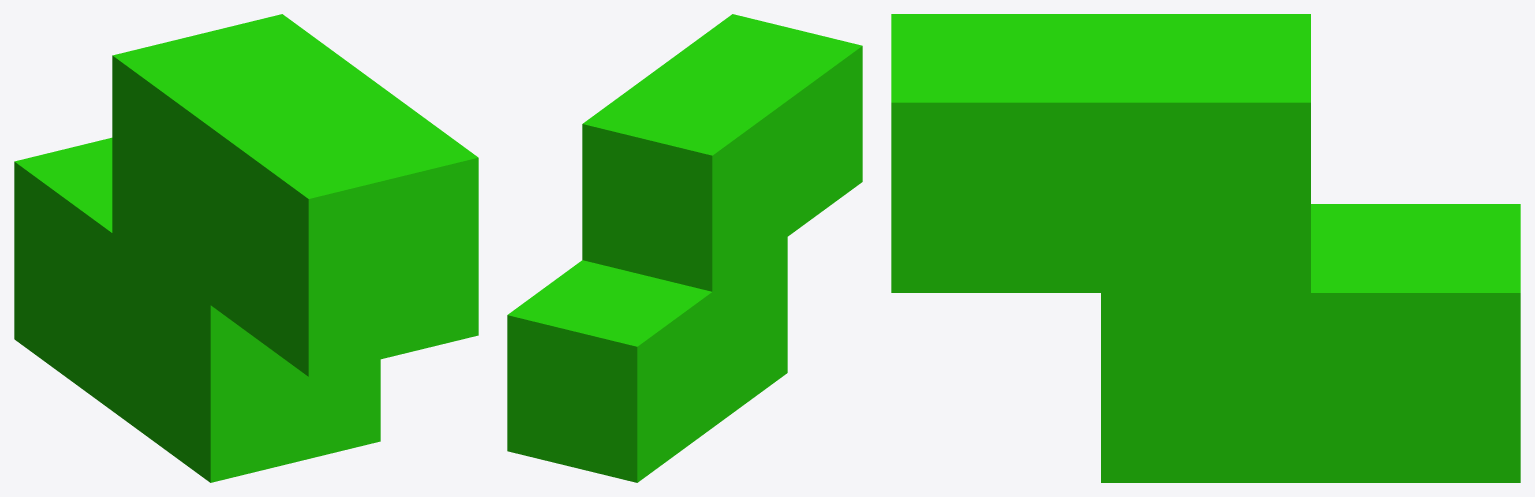
3 renders of one model, left to right at view 1: azimuth 30°, elevation 25°; view 2: azimuth 150°, elevation 25°; view 3: azimuth 270°, elevation 25°, orthographic. The views are drawn at different scales.
Parts seen in each view (by area): view 1: Cube.004; view 2: Cube.004; view 3: Cube.004.
Part boxes in pixels (x1=…): Cube.004: x1=14, y1=14, x2=478, y2=482; Cube.004: x1=507, y1=14, x2=862, y2=482; Cube.004: x1=891, y1=14, x2=1520, y2=482.
Bounding box in the file's own units: 200 × 400 × 600.
